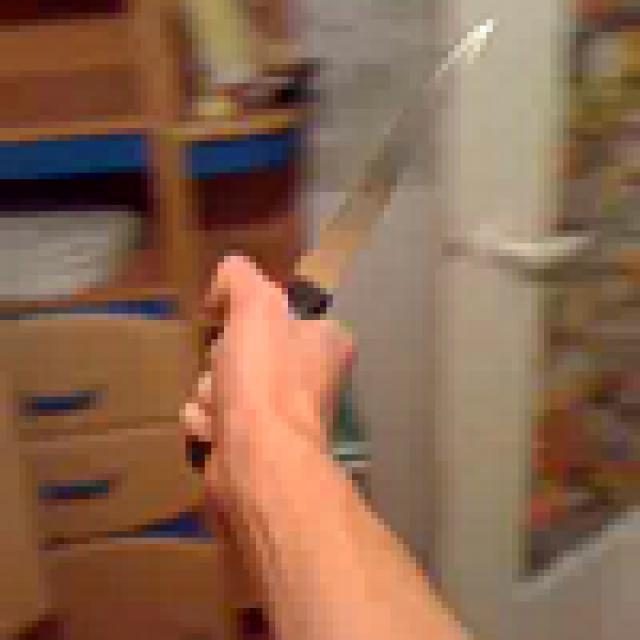knife: (198, 12, 538, 468)
